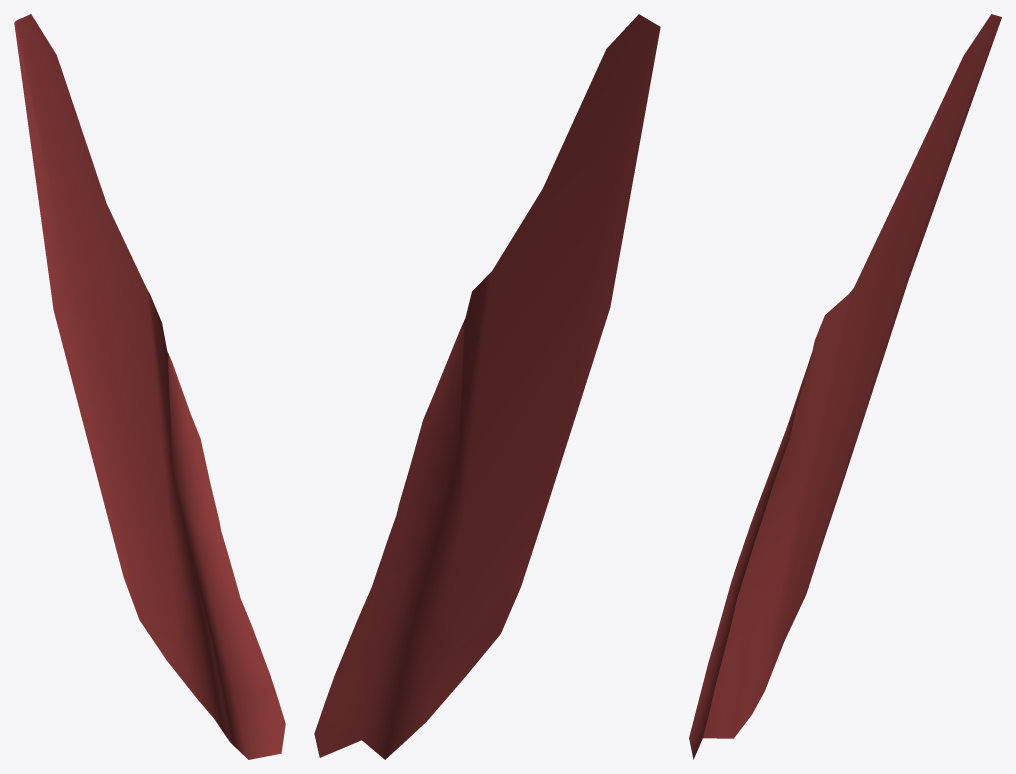
File: extensor-pollicis-longus-ol.glb
3 views of the same model, side by side, from view 1: azimuth 30°, elevation 25°; view 2: azimuth 210°, elevation 25°; view 3: azimuth 270°, elevation 25° (orthographic). The views are drawn at different scales.
Parts seen in each view (by area): view 1: Extensor pollicis longus.ol; view 2: Extensor pollicis longus.ol; view 3: Extensor pollicis longus.ol.
Part boxes in pixels (box(x1,y1,x2,y2)): Extensor pollicis longus.ol: box(14, 14, 285, 759); Extensor pollicis longus.ol: box(314, 14, 660, 759); Extensor pollicis longus.ol: box(689, 14, 1001, 759).
Bounding box in the file's own units: 0.0167 × 0.0789 × 0.0324.
